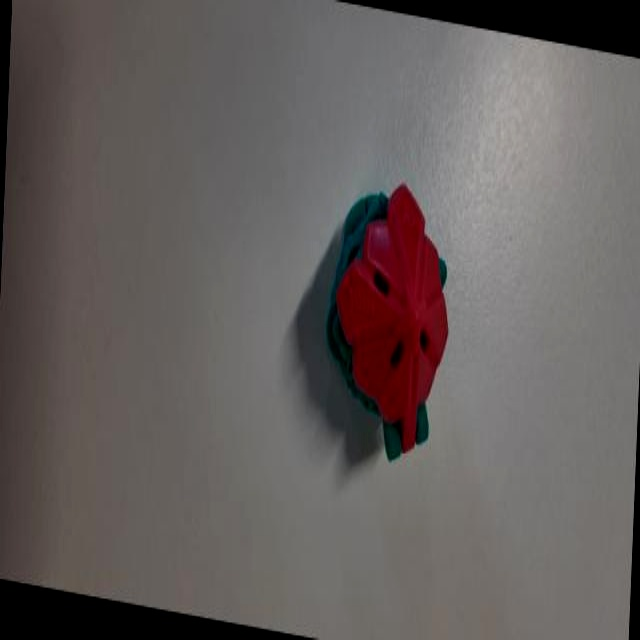House: (308, 125, 465, 483)
